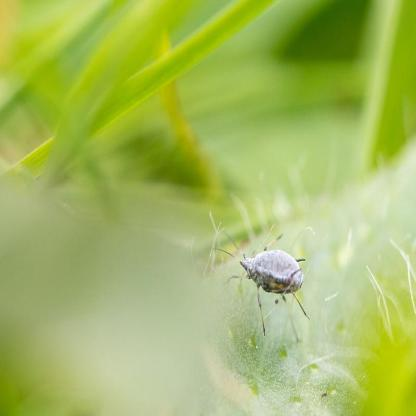aphid: (220, 219, 310, 332)
